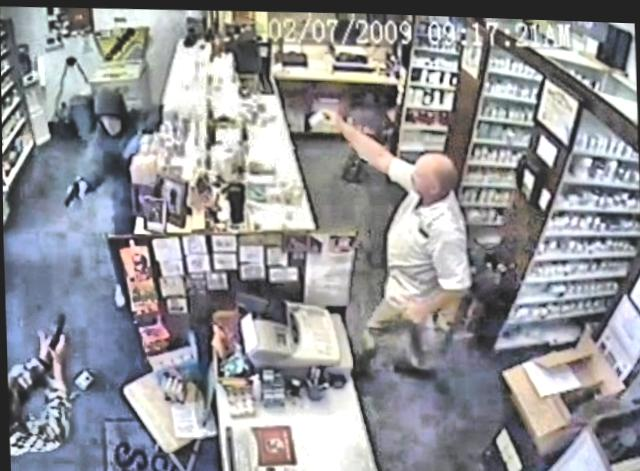pistol: (43, 312, 66, 348), (61, 177, 81, 206)
